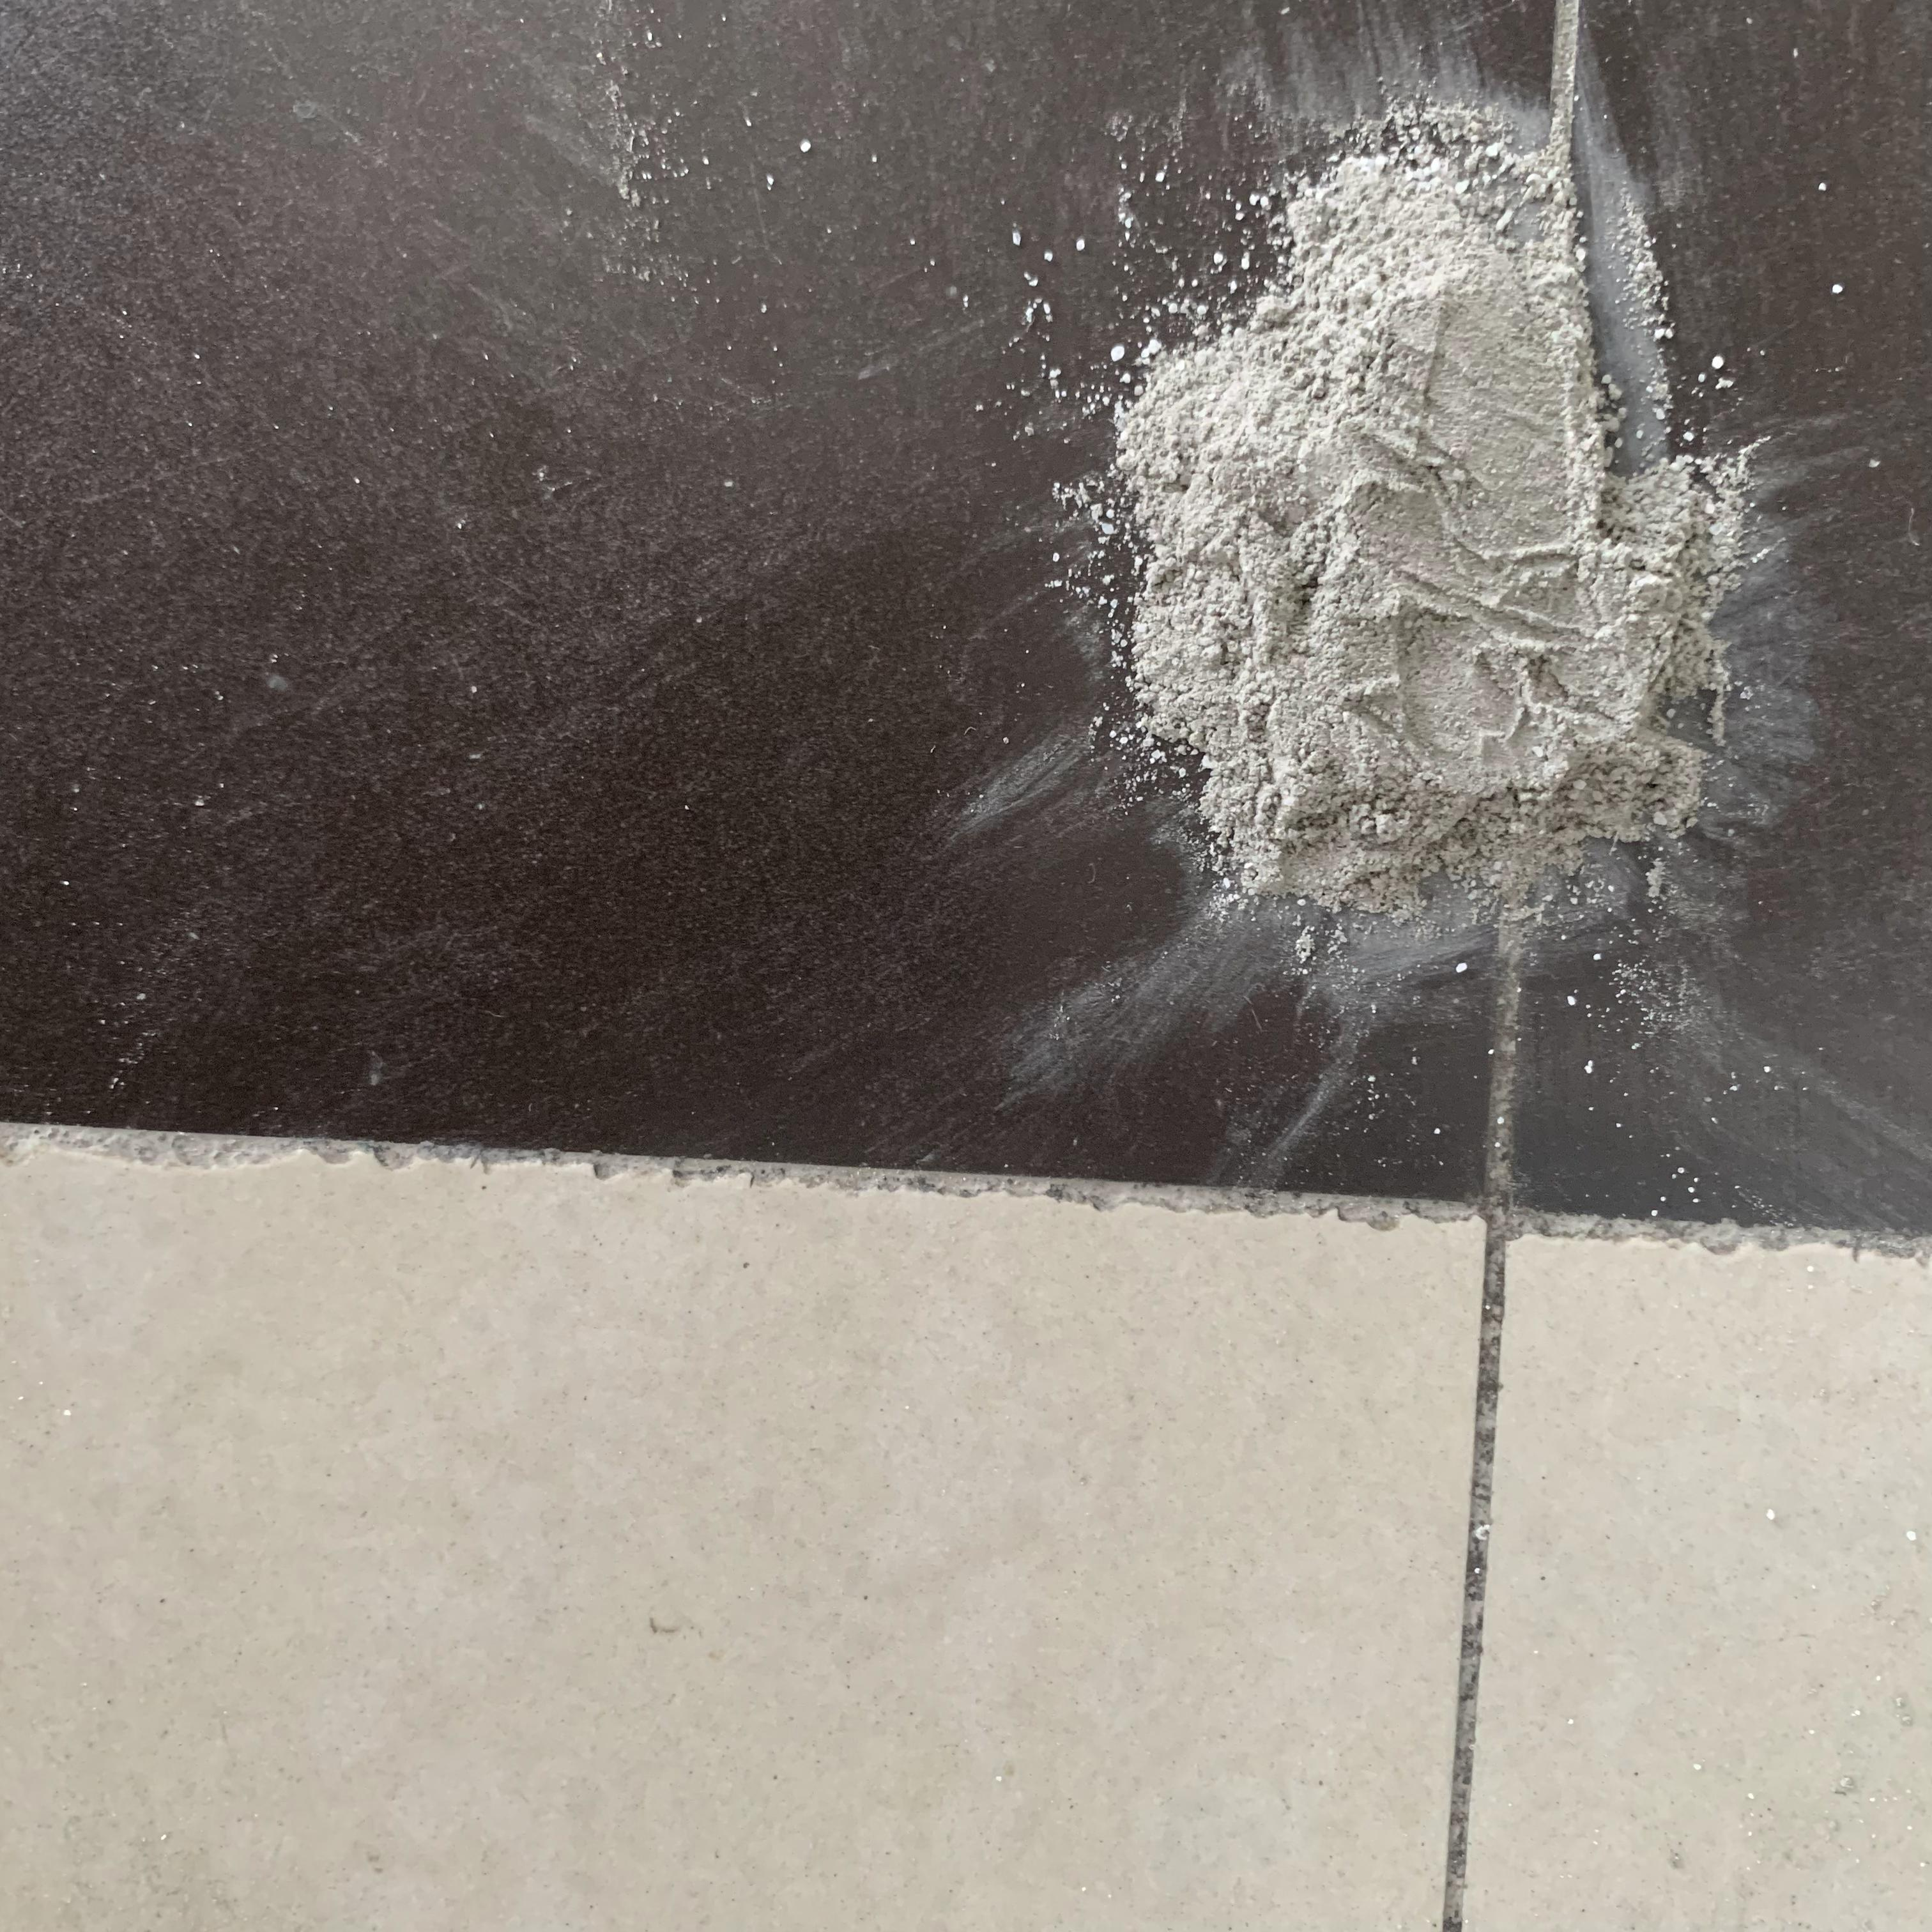ash pile: (975, 0, 1831, 1146)
